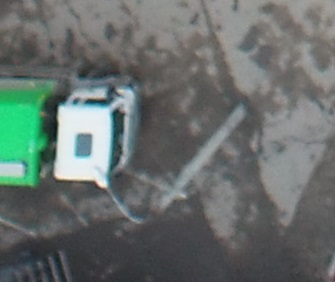opora: (91, 100, 249, 225)
